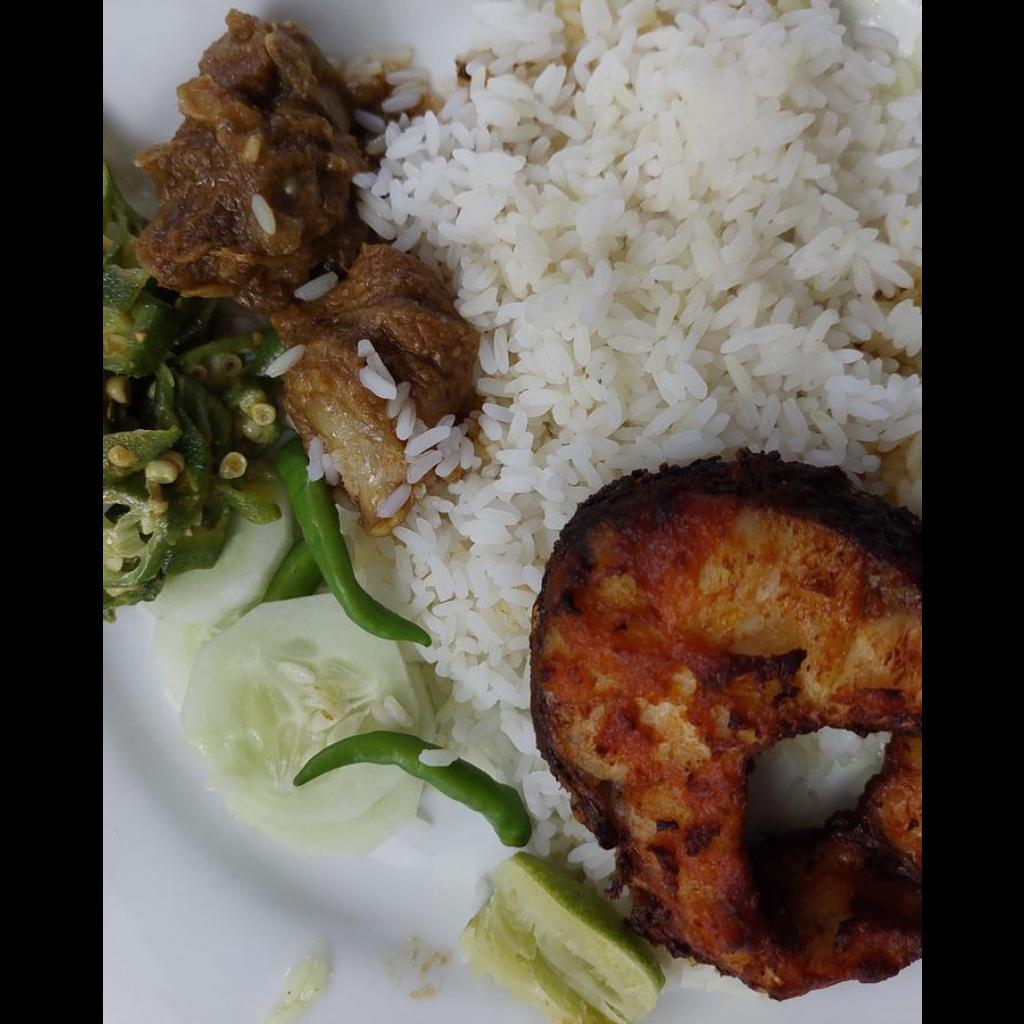beef: (132, 9, 472, 500)
fish: (525, 456, 920, 1005)
lemon: (458, 856, 664, 1018)
rice: (370, 2, 919, 768)
salad: (157, 439, 529, 871)
vaji: (102, 166, 282, 615)
